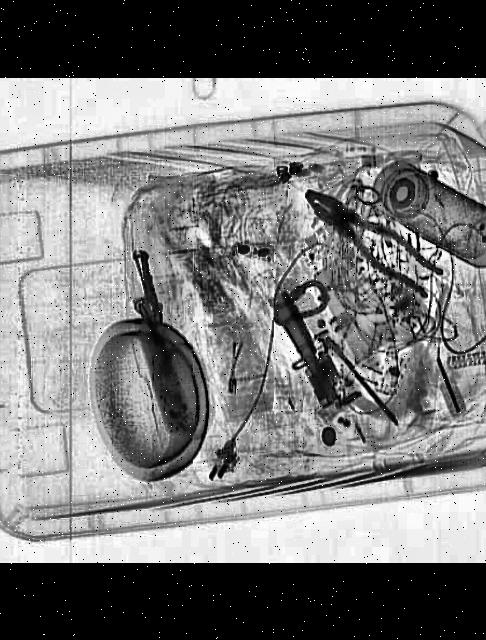Pliers: (289, 179, 453, 303)
